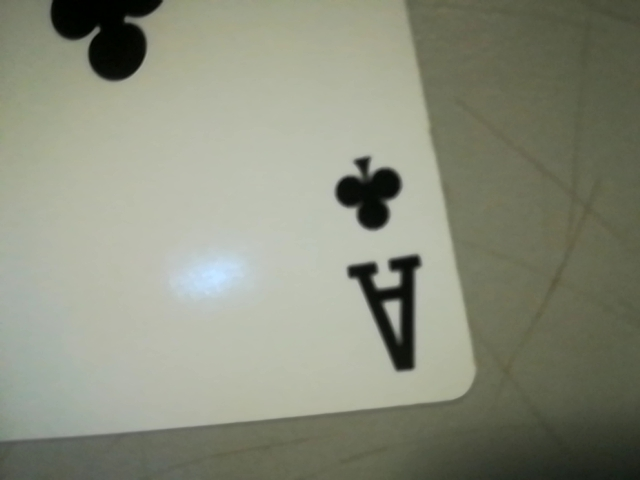mh a: (309, 136, 444, 387)
